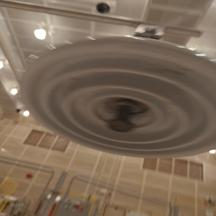insulator: (15, 31, 216, 167)
